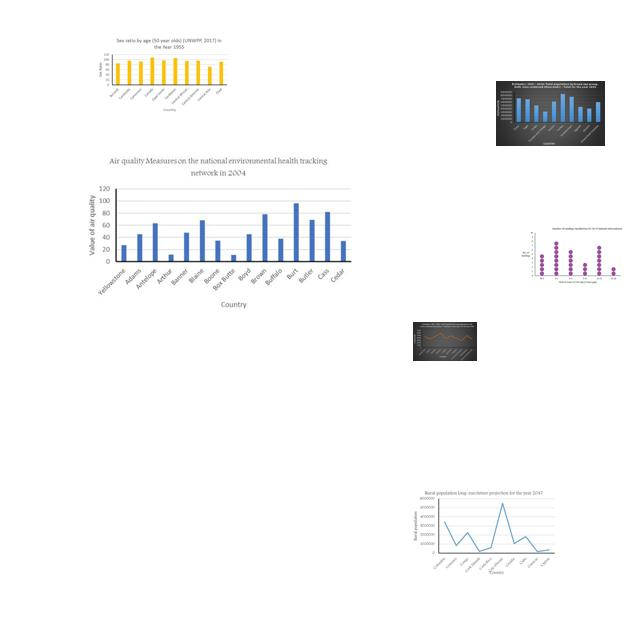Graph: (79, 151, 359, 312), (412, 490, 557, 576), (94, 35, 229, 114), (496, 81, 605, 146), (518, 225, 623, 286), (413, 322, 477, 361)
